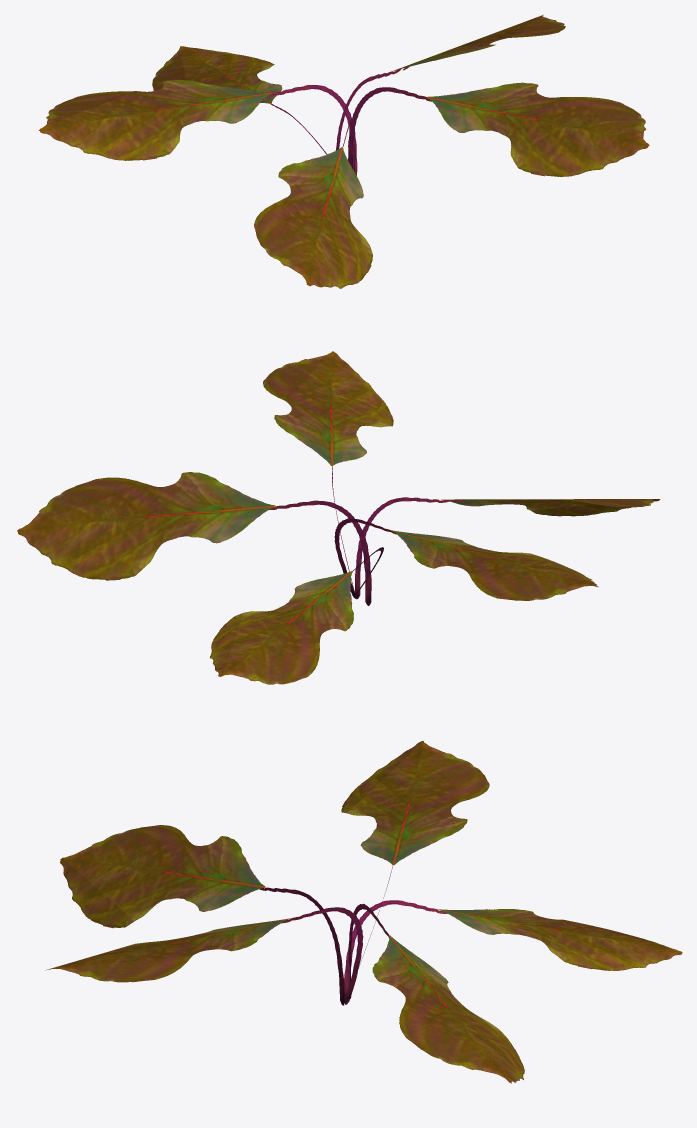
Rendered from Row Root B2.fbx.
The picture shows the model from 3 angles, top to bottom: view 1: azimuth 30°, elevation 25°; view 2: azimuth 150°, elevation 25°; view 3: azimuth 270°, elevation 25°; orthographic projection. The views are drawn at different scales.
Parts seen in each view (by area): view 1: Row Root B2; view 2: Row Root B2; view 3: Row Root B2.
Boxes of the visible parts, bbox=[...] form: Row Root B2: bbox=[39, 15, 649, 288]; Row Root B2: bbox=[17, 351, 660, 684]; Row Root B2: bbox=[45, 741, 682, 1083].
Size of the model in its own units: 240 by 51.9 by 220.
